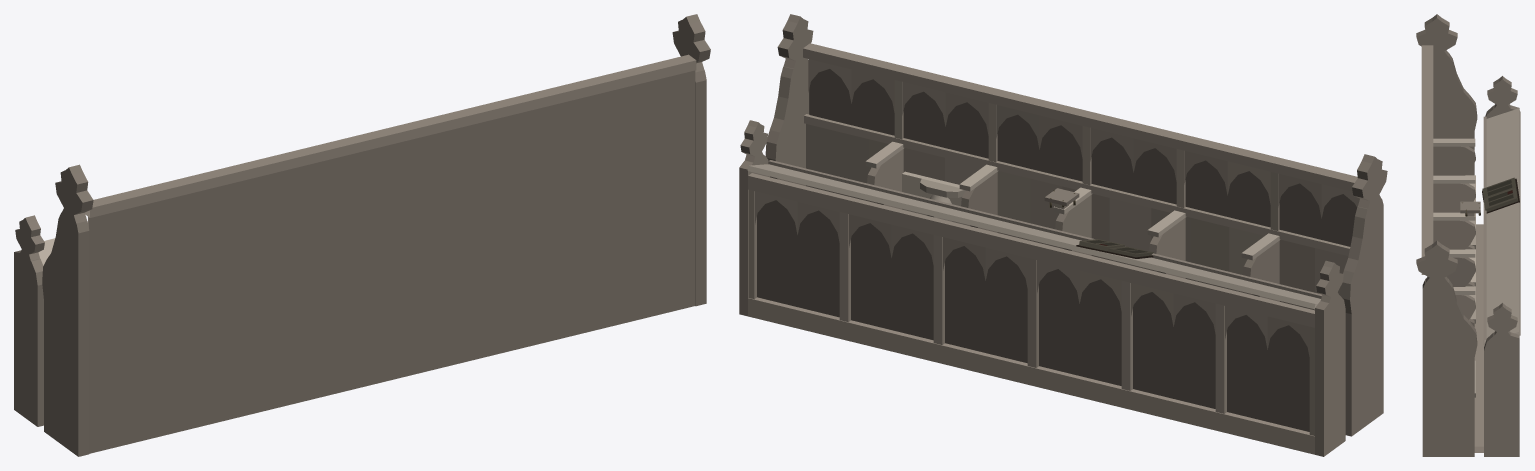
File: prop_choir_stalls.glb
The picture shows the model from 3 angles, left to right: view 1: azimuth 30°, elevation 25°; view 2: azimuth 150°, elevation 25°; view 3: azimuth 270°, elevation 25°; orthographic projection. The views are drawn at different scales.
Visible parts, largest first — view 1: ChoirStalls; view 2: ChoirStalls; view 3: ChoirStalls.
Boxes of the visible parts, x1,y1,x2,y2 form: ChoirStalls: (14, 14, 710, 456); ChoirStalls: (739, 14, 1387, 456); ChoirStalls: (1416, 14, 1520, 456).
Bounding box in the file's own units: 4 × 1.72 × 0.7636.
